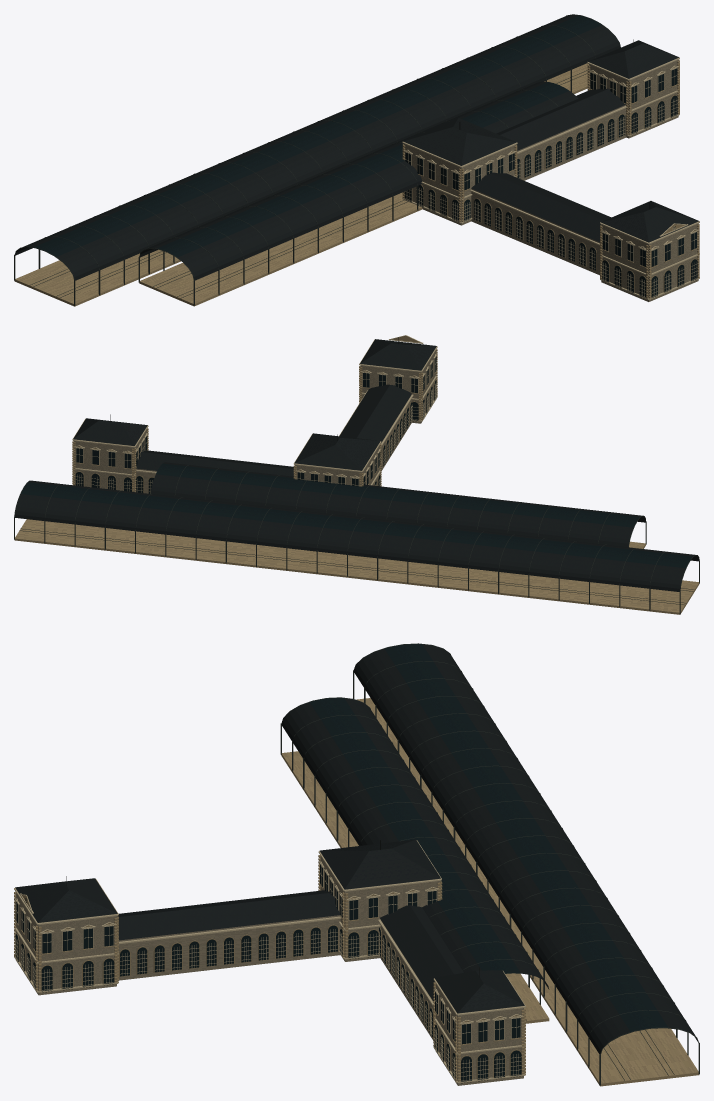
3 renders of one model, top to bottom at view 1: azimuth 30°, elevation 25°; view 2: azimuth 150°, elevation 25°; view 3: azimuth 270°, elevation 25°, orthographic. The views are drawn at different scales.
Visible parts, largest first — view 1: station-delftse-poort-1, station-delftse-poort-3, station-delftse-poort-2, station-delftse-poort-0, station-delftse-poort-4, station-delftse-poort-6; view 2: station-delftse-poort-1, station-delftse-poort-3, station-delftse-poort-2, station-delftse-poort-0, station-delftse-poort-6, station-delftse-poort-4; view 3: station-delftse-poort-1, station-delftse-poort-3, station-delftse-poort-2, station-delftse-poort-0, station-delftse-poort-4, station-delftse-poort-6.
Boxes of the visible parts, x1,y1,x2,y2 form: station-delftse-poort-1: [15, 14, 698, 280]; station-delftse-poort-3: [34, 15, 697, 298]; station-delftse-poort-2: [14, 60, 699, 306]; station-delftse-poort-0: [404, 58, 698, 301]; station-delftse-poort-4: [402, 57, 699, 299]; station-delftse-poort-6: [14, 14, 620, 305]; station-delftse-poort-1: [14, 339, 698, 591]; station-delftse-poort-3: [21, 356, 692, 568]; station-delftse-poort-2: [14, 336, 699, 614]; station-delftse-poort-0: [73, 350, 436, 493]; station-delftse-poort-6: [14, 465, 699, 614]; station-delftse-poort-4: [72, 335, 437, 493]; station-delftse-poort-1: [15, 644, 697, 1053]; station-delftse-poort-3: [15, 644, 668, 1083]; station-delftse-poort-2: [14, 698, 699, 1086]; station-delftse-poort-0: [16, 856, 523, 1085]; station-delftse-poort-4: [14, 840, 525, 1083]; station-delftse-poort-6: [280, 643, 699, 1085].
Bounding box in the file's own units: 219 × 25.1 × 160.
7 materials, 7 textured.
